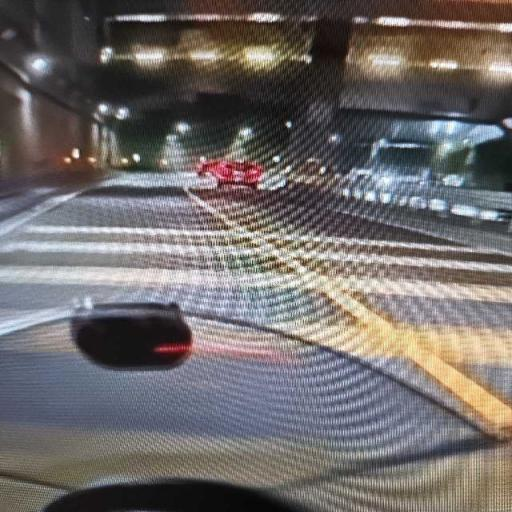car: (198, 160, 263, 188)
lane: (0, 190, 507, 510), (0, 187, 510, 364)
